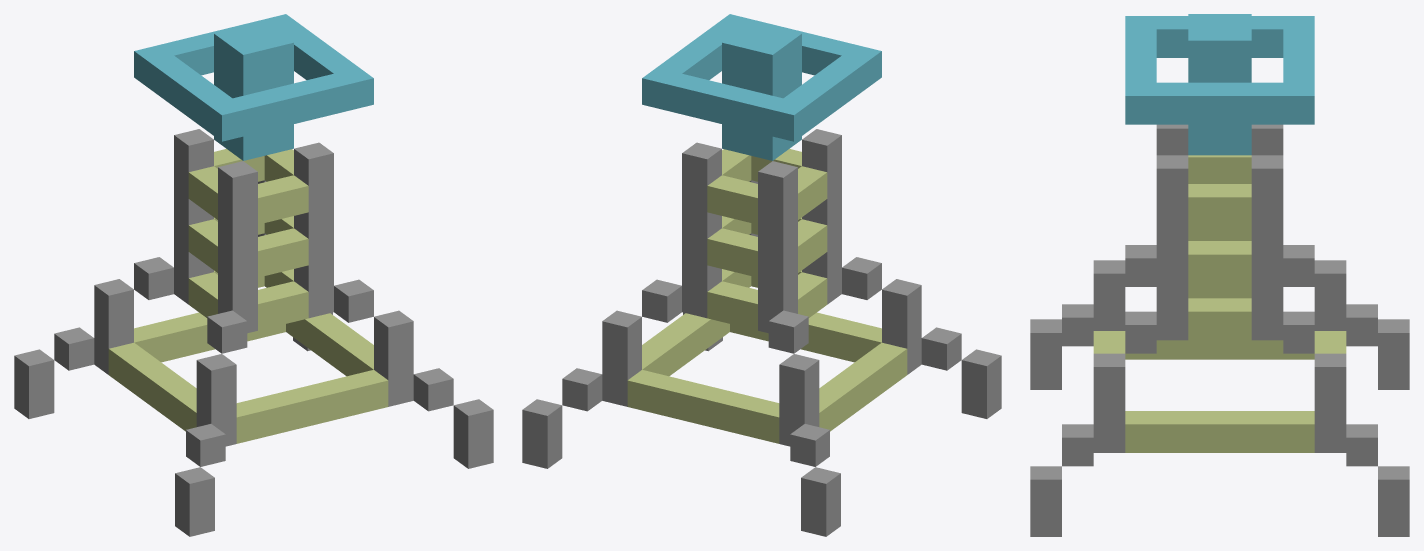
File: TechAntenna.glb
The picture shows the model from 3 angles, left to right: view 1: azimuth 30°, elevation 25°; view 2: azimuth 150°, elevation 25°; view 3: azimuth 270°, elevation 25°; orthographic projection. The views are drawn at different scales.
Visible parts, largest first — view 1: VoxelModel; view 2: VoxelModel; view 3: VoxelModel.
Part boxes in pixels (left/top/right/bottom): VoxelModel: left=14, top=14, right=493, bottom=536; VoxelModel: left=522, top=14, right=1001, bottom=536; VoxelModel: left=1030, top=14, right=1409, bottom=536.
Bounding box in the file's own units: 12 × 15 × 12.
